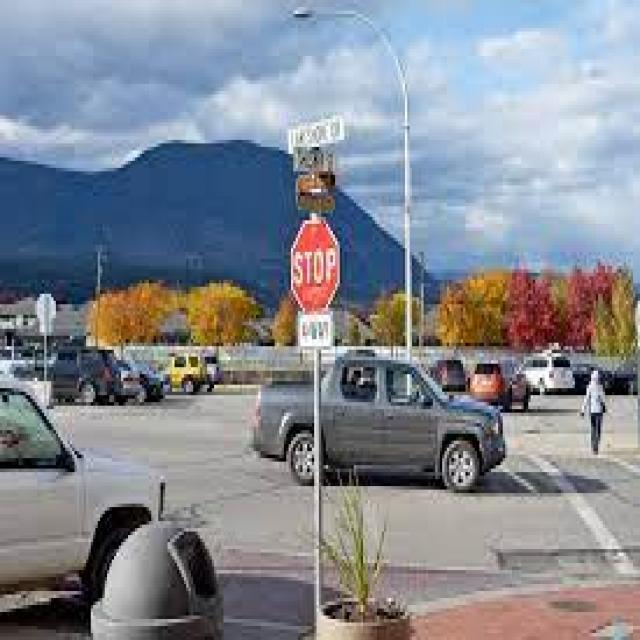stop-sign: (288, 225, 348, 303)
